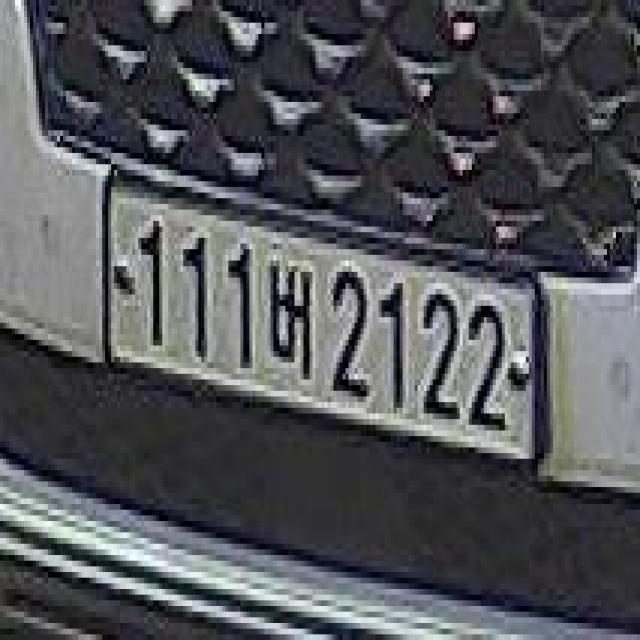illegal_plate: (97, 171, 544, 487)
